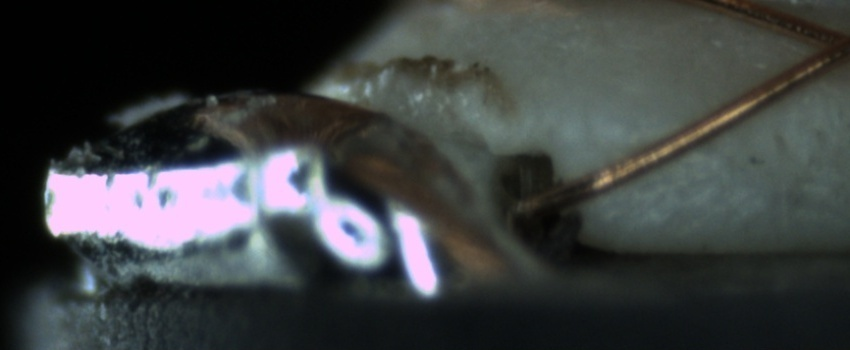CL: (796, 14, 850, 75)
